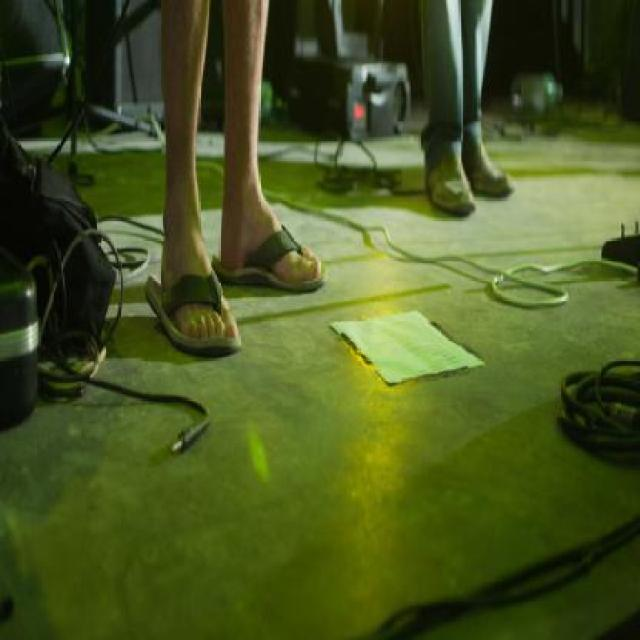Person: (144, 0, 328, 357), (385, 0, 523, 212)
